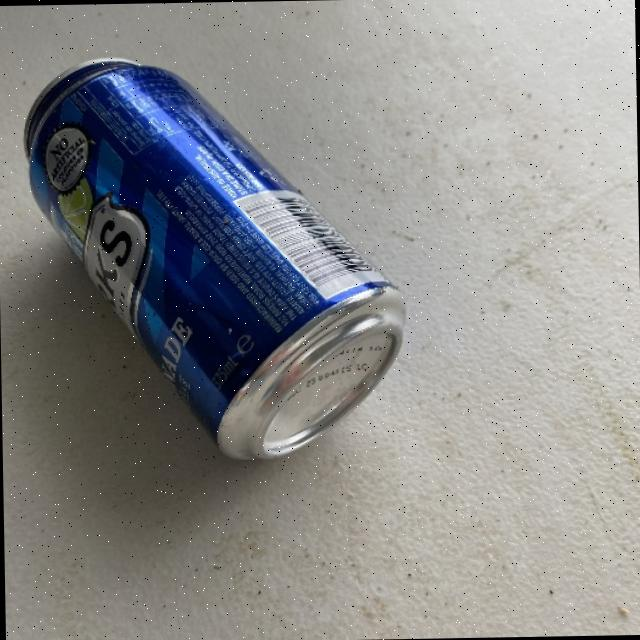metal: (20, 50, 408, 466)
